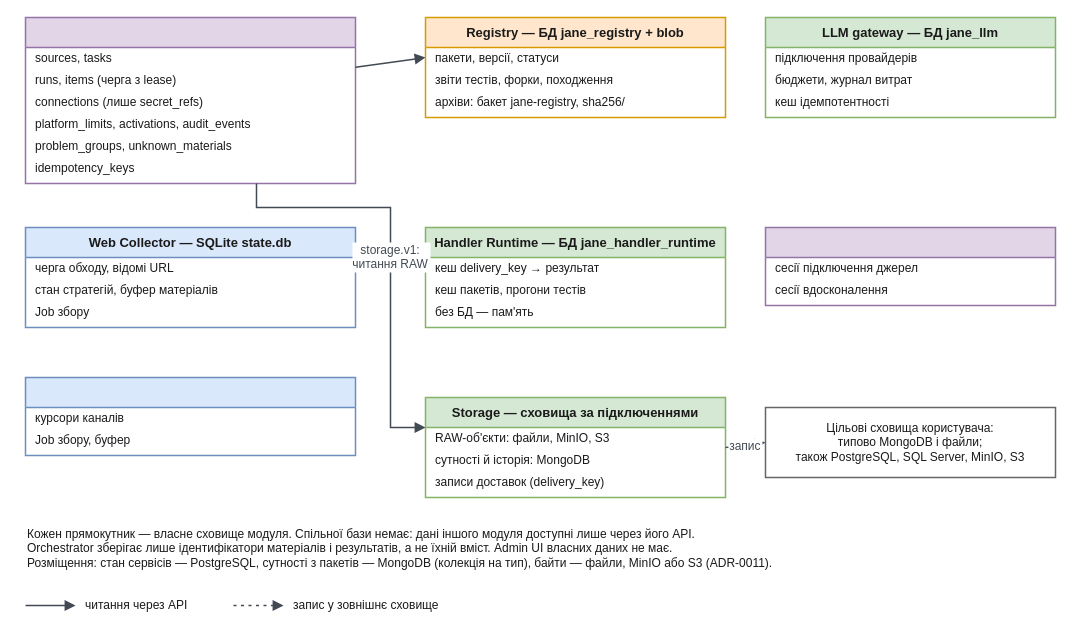
The diagram is 1074 pixels wide and 633 high, and some of its shapes have lost their labels. Here are the shapes that lost their labels. From the top down, the box of each, then its label:
(24, 16, 356, 184): Orchestrator — БД jane_orchestrator
(764, 226, 1056, 306): Assistant — БД jane_assistant
(24, 376, 356, 456): Telegram Collector — SQLite
